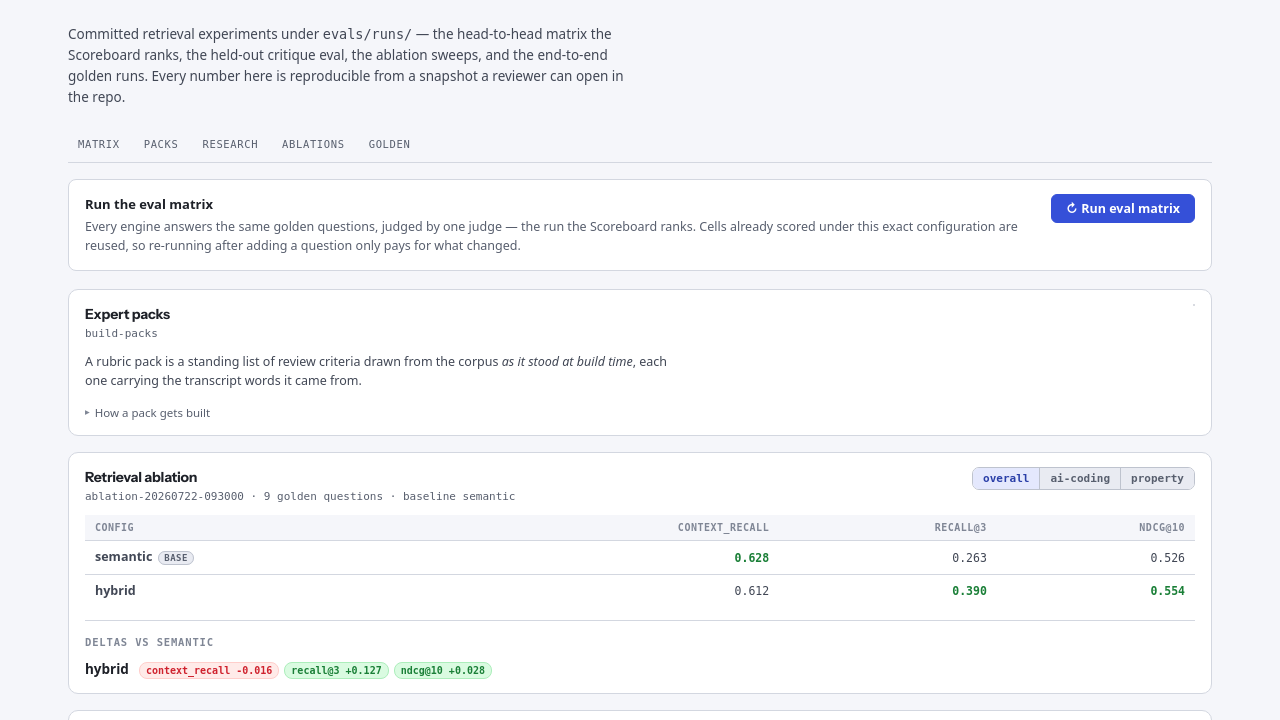
ExperimentsView › switches the table to a per-domain view
Expected: the table is shown, top-left (85, 515), bottom-right (1195, 608)
Click the tab "ai-coding": (1080, 479) top-left (1039, 468), bottom-right (1120, 489)
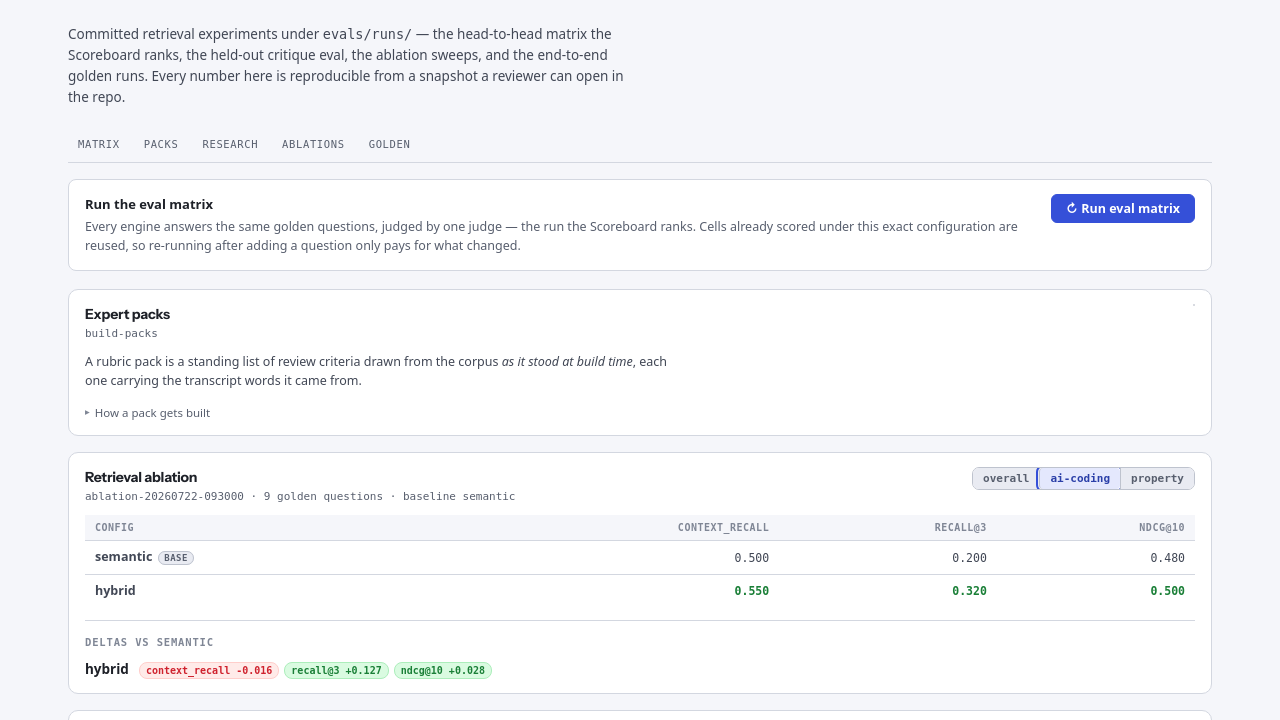
Result: the text "0.320" is shown at top-left (779, 574), bottom-right (997, 608)
